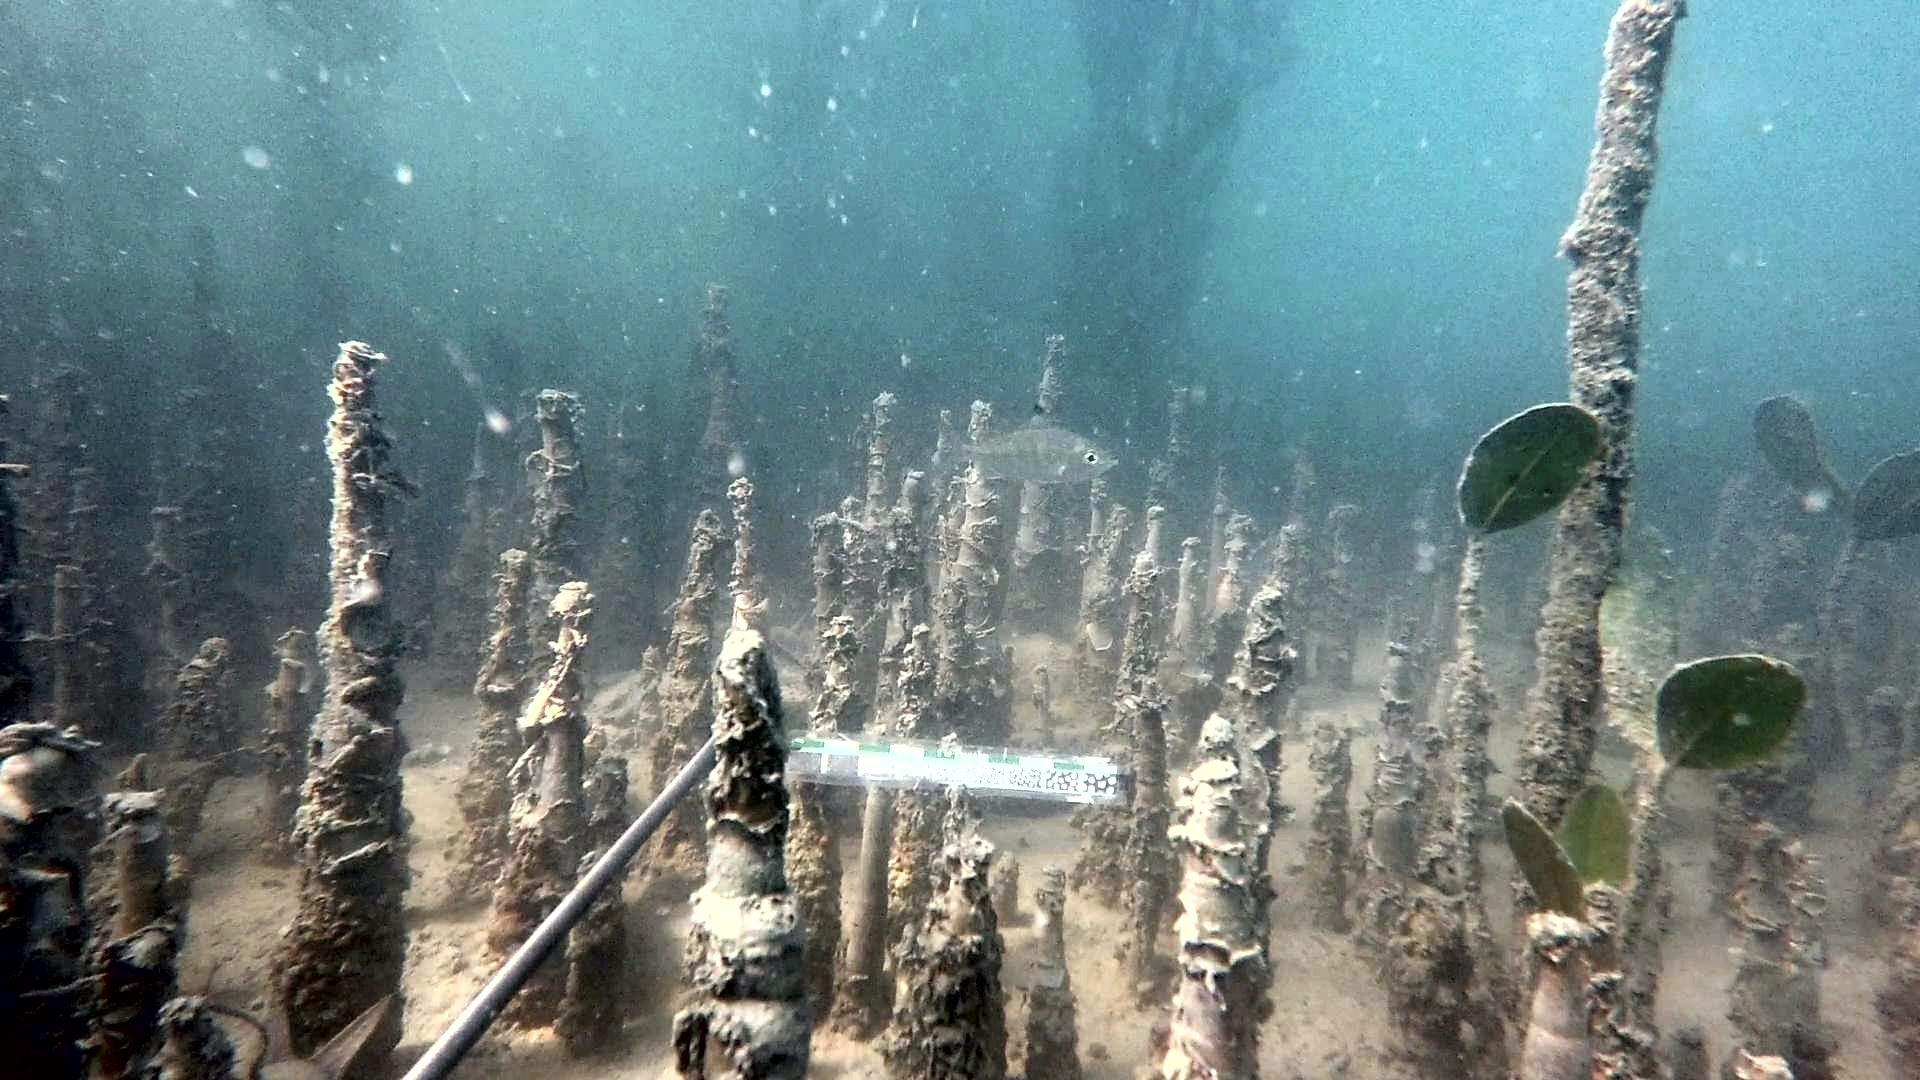gerres: (922, 403, 1121, 493)
